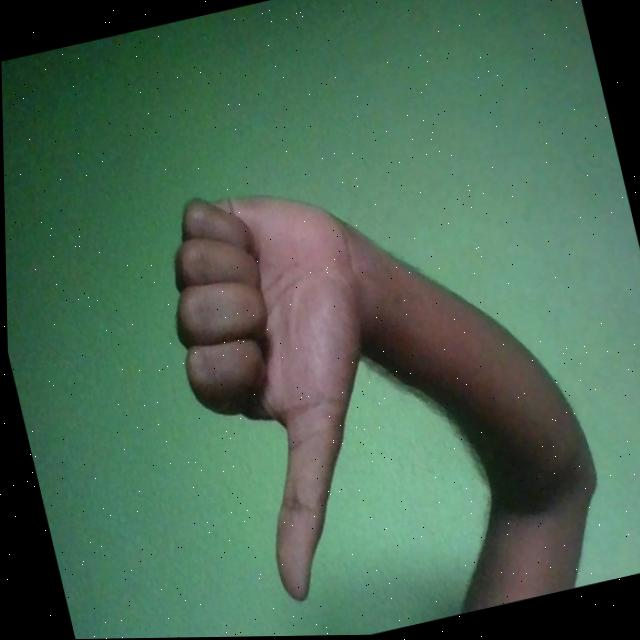Dislike: (145, 162, 433, 617)
